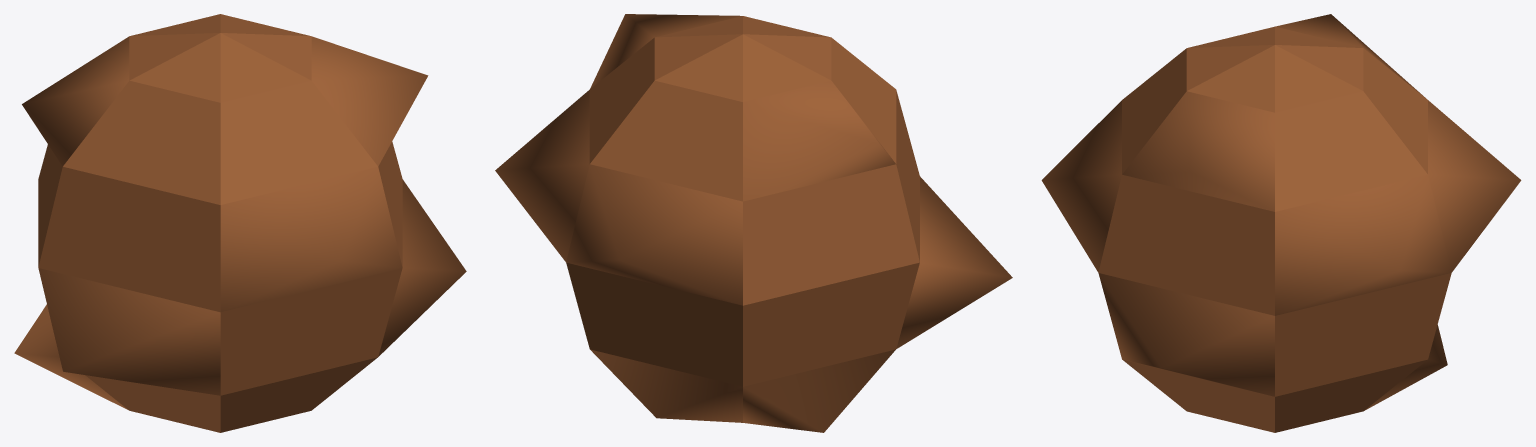
File: plasma.fbx
3 views of the same model, side by side, from view 1: azimuth 30°, elevation 25°; view 2: azimuth 150°, elevation 25°; view 3: azimuth 270°, elevation 25° (orthographic). The views are drawn at different scales.
Parts seen in each view (by area): view 1: plasma:pSphere11; view 2: plasma:pSphere11; view 3: plasma:pSphere11.
Part boxes in pixels (bbox=[...]): plasma:pSphere11: bbox=[14, 14, 466, 432]; plasma:pSphere11: bbox=[495, 14, 1012, 432]; plasma:pSphere11: bbox=[1041, 14, 1521, 432].
Bounding box in the file's own units: 4.29 × 3.82 × 4.5.
